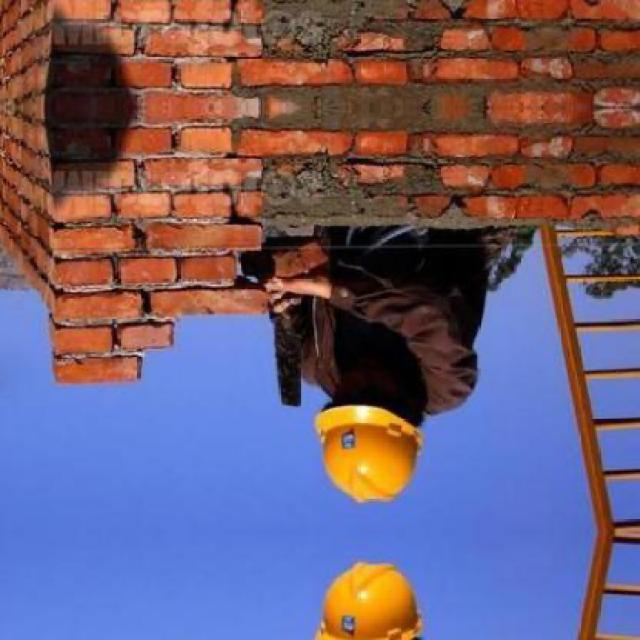con casco: (281, 406, 453, 520), (308, 404, 470, 480)
